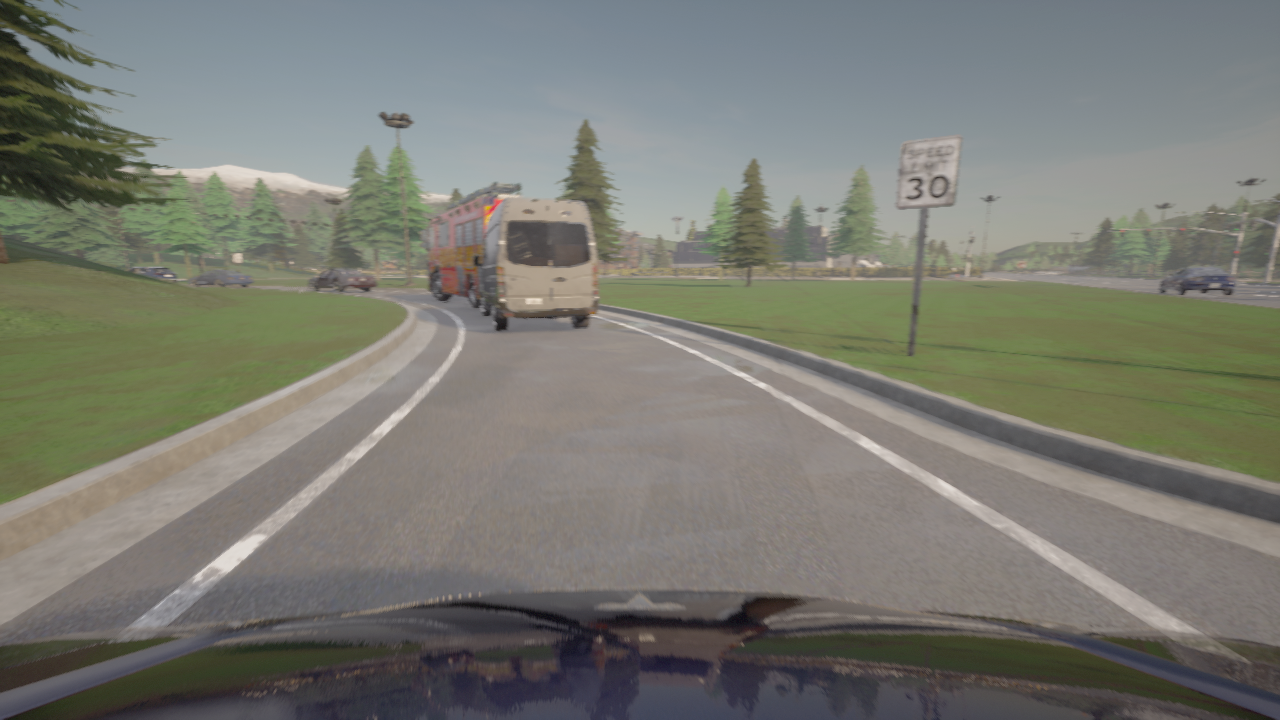cyclist: (0, 588, 1279, 719), (473, 198, 598, 330), (421, 181, 522, 308), (1159, 267, 1236, 295), (307, 268, 377, 292), (187, 269, 254, 287), (127, 266, 178, 282)
